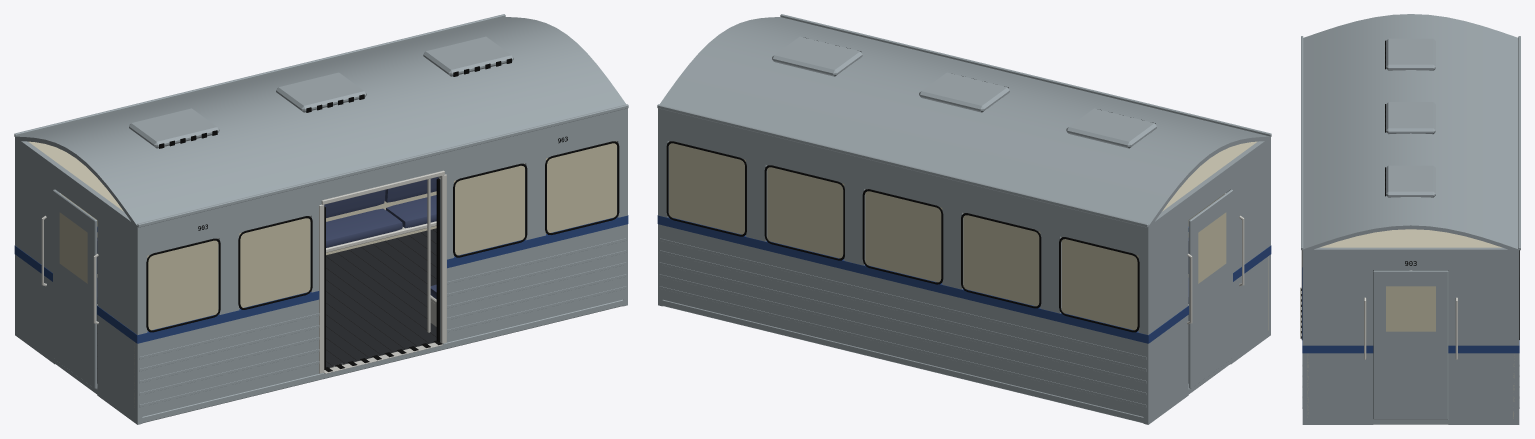
File: metro_car_end.glb
3 renders of one model, left to right at view 1: azimuth 30°, elevation 25°; view 2: azimuth 150°, elevation 25°; view 3: azimuth 270°, elevation 25°, orthographic. The views are drawn at different scales.
Visible parts, largest first — view 1: wagen_body, wagen_glass, wagen_floor, wagen_rubber, wagen_steel, wagen_seat, wagen_stripe, wagen_inner; view 2: wagen_body, wagen_glass, wagen_stripe, wagen_rubber, wagen_inner; view 3: wagen_body, wagen_inner, wagen_glass, wagen_stripe, wagen_steel, wagen_rubber.
Boxes of the visible parts, x1,y1,x2,y2 form: wagen_body: [14, 14, 628, 424]; wagen_glass: [59, 141, 616, 331]; wagen_floor: [97, 228, 436, 383]; wagen_rubber: [146, 58, 619, 371]; wagen_steel: [41, 170, 446, 373]; wagen_seat: [97, 177, 438, 303]; wagen_stripe: [14, 215, 628, 343]; wagen_inner: [28, 141, 436, 407]; wagen_body: [657, 14, 1271, 424]; wagen_glass: [669, 141, 1226, 331]; wagen_stripe: [657, 215, 1271, 343]; wagen_rubber: [666, 37, 1155, 332]; wagen_inner: [1162, 141, 1268, 330]; wagen_body: [1301, 14, 1520, 424]; wagen_inner: [1307, 229, 1514, 418]; wagen_glass: [1386, 286, 1435, 331]; wagen_stripe: [1302, 267, 1519, 353]; wagen_steel: [1300, 250, 1457, 359]; wagen_rubber: [1301, 40, 1519, 339].
Size of the model in its own units: 6.21 by 2.7 by 2.65.
